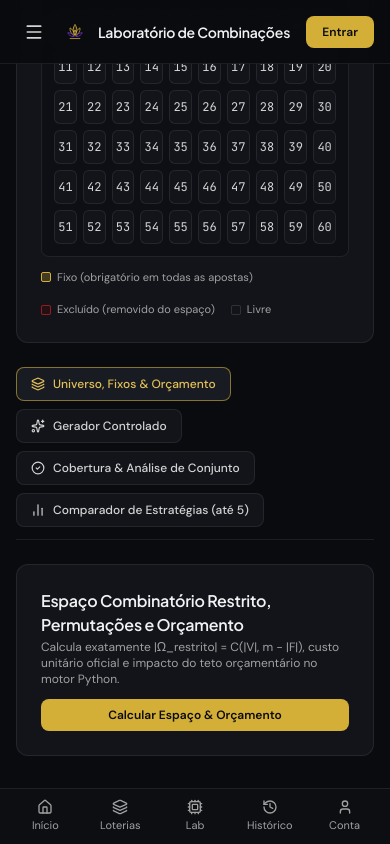
Test: Unitários UI — Etapa 3: Laboratório de Combinações › exibe erro explícito quando o motor Python retorna 503 sem fallback silencioso
Earlier steps of the test are not shown.
(page scrolled)
Click the button "Calcular Espaço & Orçamento". click: (195, 715)
box: [41,699,349,731]
(page scrolled)
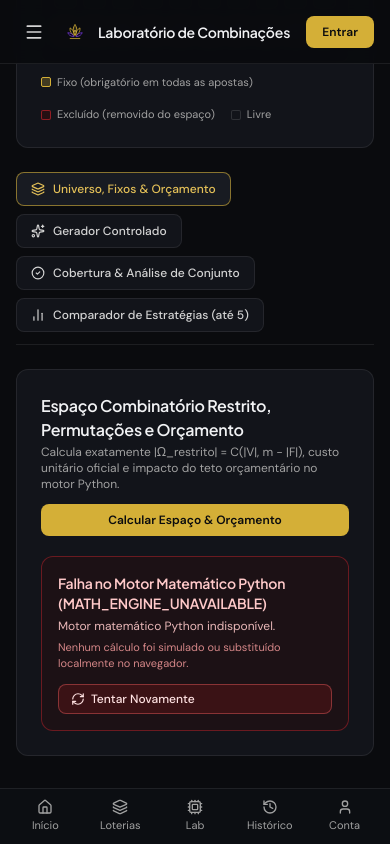
Expected: the text "Falha no Motor Matemático Python (MATH_ENGINE_UNAVAILABLE)" is shown, [58,574,285,612]
Expected: the text "Nenhum cálculo foi simulado ou substituído localmente no navegador" is shown, [58,640,281,670]
